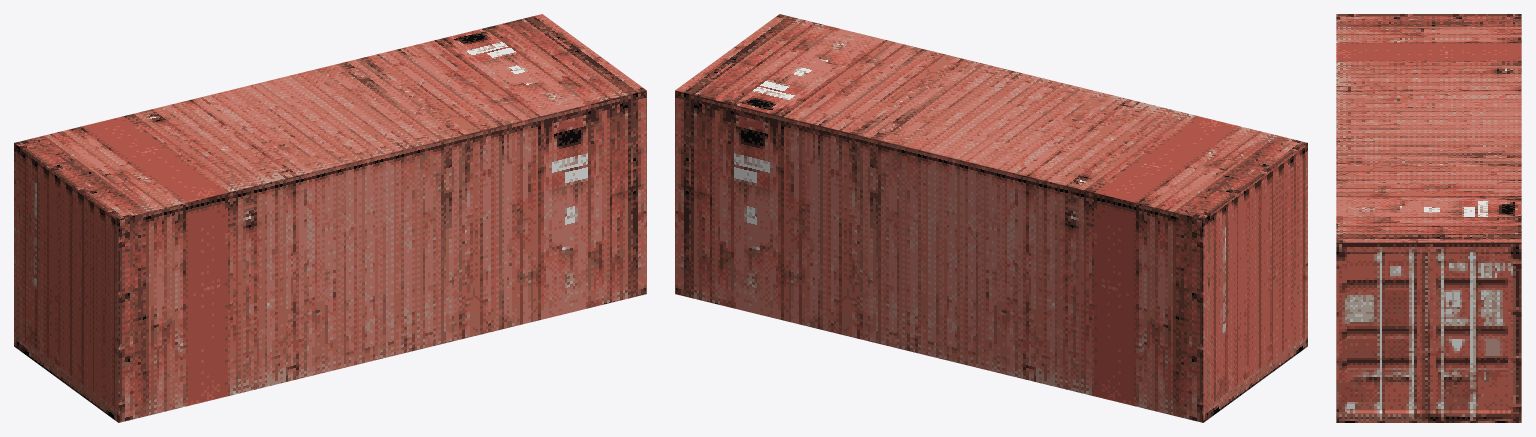
File: Container_Red.glb
The picture shows the model from 3 angles, left to right: view 1: azimuth 30°, elevation 25°; view 2: azimuth 150°, elevation 25°; view 3: azimuth 270°, elevation 25°; orthographic projection. The views are drawn at different scales.
Visible parts, largest first — view 1: Container Red; view 2: Container Red; view 3: Container Red.
Part boxes in pixels (x1,y1,x2,y2): Container Red: (14, 14, 646, 422); Container Red: (675, 14, 1307, 422); Container Red: (1336, 14, 1521, 422).
Bounding box in the file's own units: 2.74 × 1.01 × 0.9388.
1 material, 1 textured.
